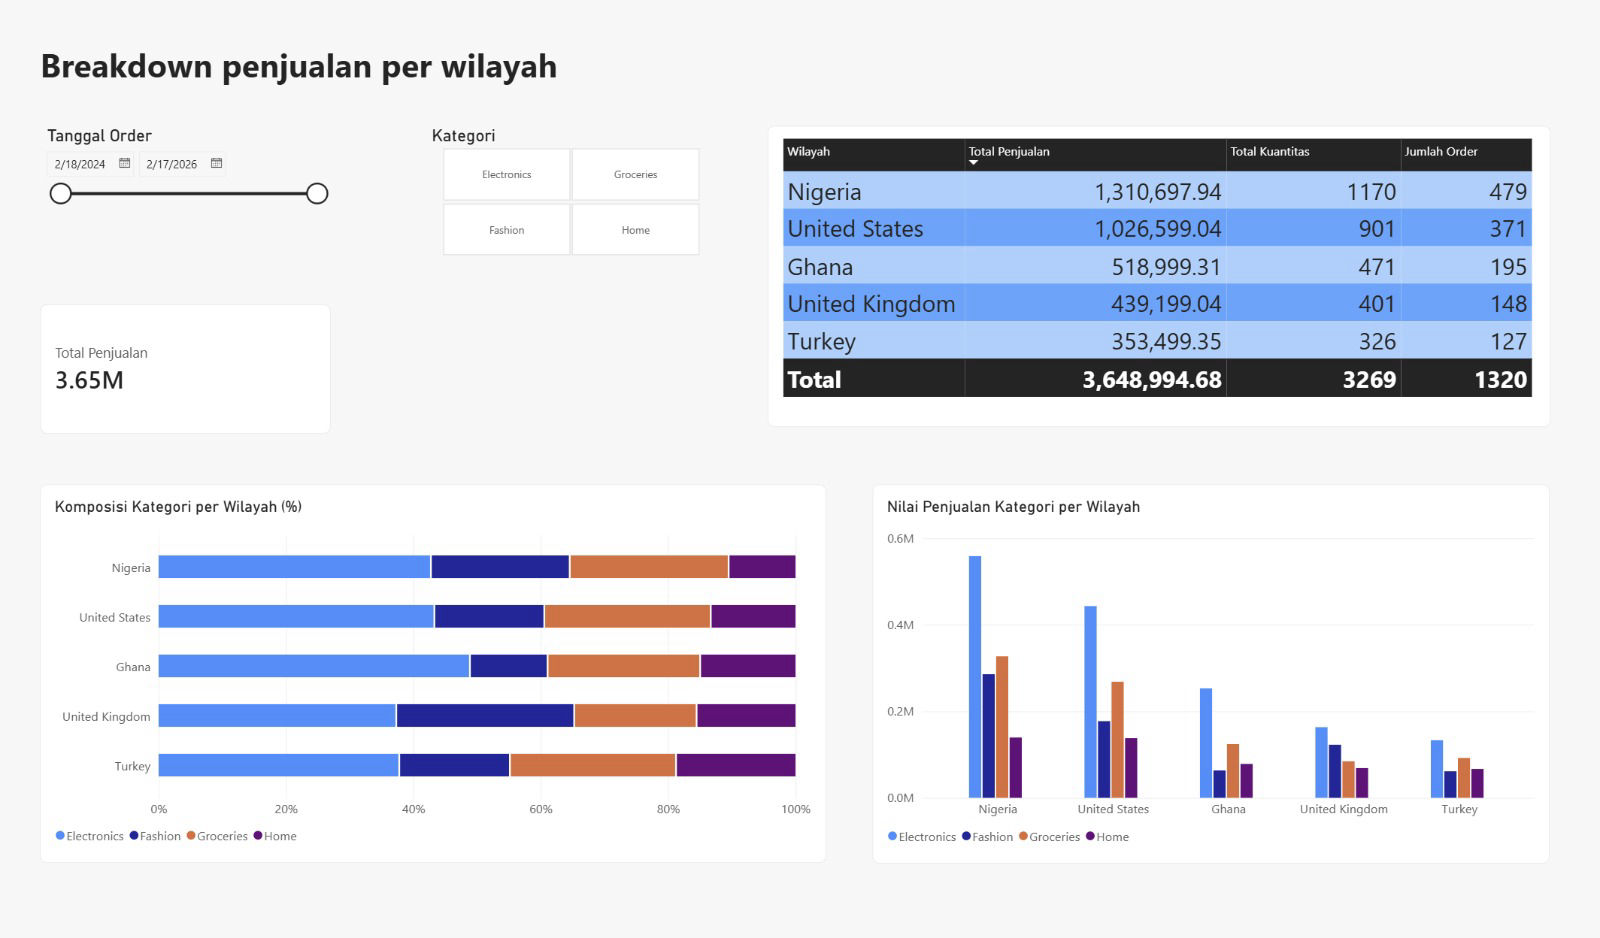

The dashboard page shown, as its layout file describes it:
{"tool":"powerbi","page":{"name":"Breakdown Wilayah","canvas":[1920,1080],"ordinal":1},"visuals":[{"type":"textbox","box":[86.7,50.5,608.1,56.9],"z":0},{"type":"listSlicer","fields":{"Values":["mart_daily_sales.category"]},"box":[86.6,146.1,333.8,150.1],"z":1000},{"type":"listSlicer","fields":{"Values":["mart_daily_sales.order_date.Variation.Date Hierarchy.Year","mart_daily_sales.order_date.Variation.Date Hierarchy.Quarter","mart_daily_sales.order_date.Variation.Date Hierarchy.Month","mart_daily_sales.order_date.Variation.Date Hierarchy.Day"]},"box":[537.7,146.1,333.8,150.1],"z":2000},{"type":"cardVisual","fields":{"Data":["Sum(mart_daily_sales.total_sales)"]},"box":[86.6,350.3,333.5,149.9],"z":3000},{"type":"hundredPercentStackedBarChart","title":"Komposisi Kategori per Wilayah (%)","fields":{"Category":["mart_daily_sales.region"],"Series":["mart_daily_sales.category"],"Y":["Sum(mart_daily_sales.total_sales)"]},"box":[86.6,557.1,901,434.3],"z":4000},{"type":"clusteredColumnChart","title":"Nilai Penjualan Kategori per Wilayah","fields":{"Category":["mart_daily_sales.region"],"Series":["mart_daily_sales.category"],"Y":["Sum(mart_daily_sales.total_sales)"]},"box":[1040.2,557.6,776.3,434.7],"z":5000},{"type":"tableEx","fields":{"Values":["mart_daily_sales.region","Sum(mart_daily_sales.total_sales)","Sum(mart_daily_sales.total_qty)","Sum(mart_daily_sales.n_orders)"]},"box":[920.4,146.1,897.1,345.1],"z":6000}]}

Visuals, with their boxes on the page's 1920x1080 design canvas (x1, y1, x2, y2). These are canvas units, not pixel positions in the 1600x938 screenshot, which may show the page scaled, cropped or inside an application window:
textbox: 87:50:695:107
listSlicer - mart_daily_sales.category: 87:146:420:296
listSlicer - mart_daily_sales.order_date.Variation.Date Hierarchy.Year x mart_daily_sales.order_date.Variation.Date Hierarchy.Quarter: 538:146:872:296
cardVisual - Sum(mart_daily_sales.total_sales): 87:350:420:500
"Komposisi Kategori per Wilayah (%)" hundredPercentStackedBarChart: 87:557:988:991
"Nilai Penjualan Kategori per Wilayah" clusteredColumnChart: 1040:558:1816:992
tableEx - mart_daily_sales.region x Sum(mart_daily_sales.total_sales): 920:146:1818:491
